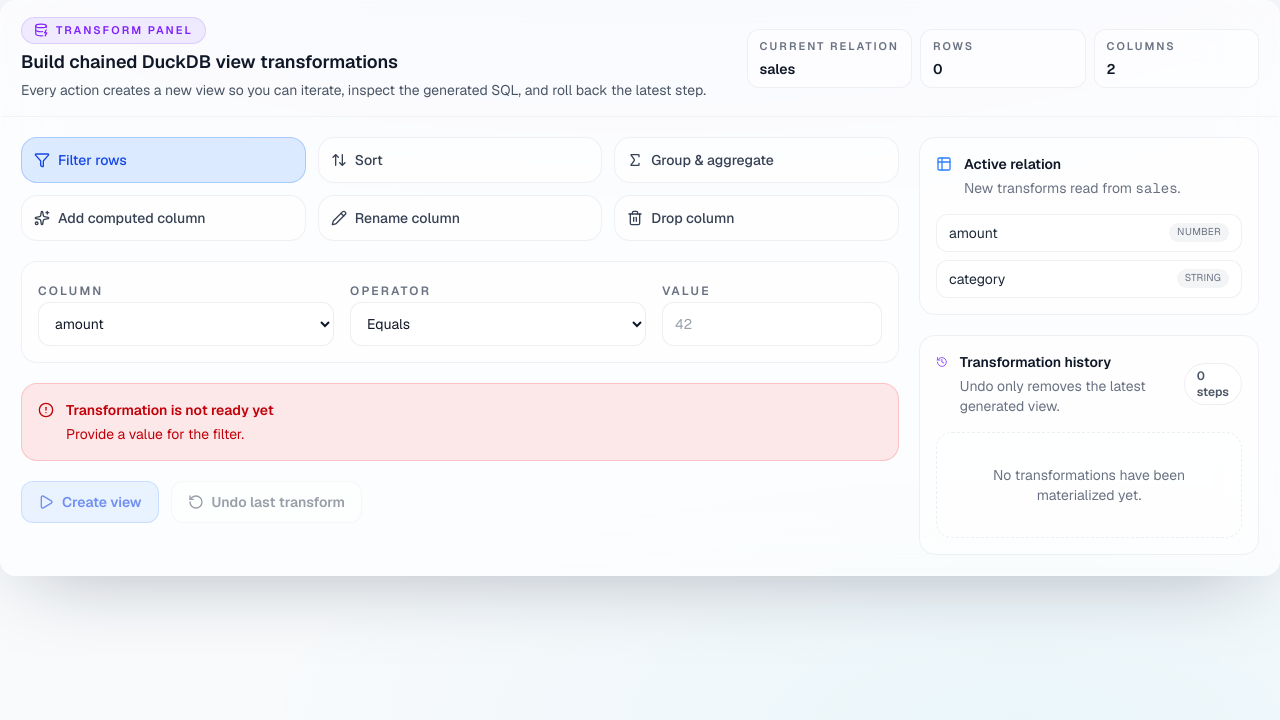
TransformPanel › undoes the latest transform
The image size is (1280, 720).
Select "Is not null" in the dropdown labelled "Operator" at (498, 324), box x1=350 y1=302 x2=646 y2=346
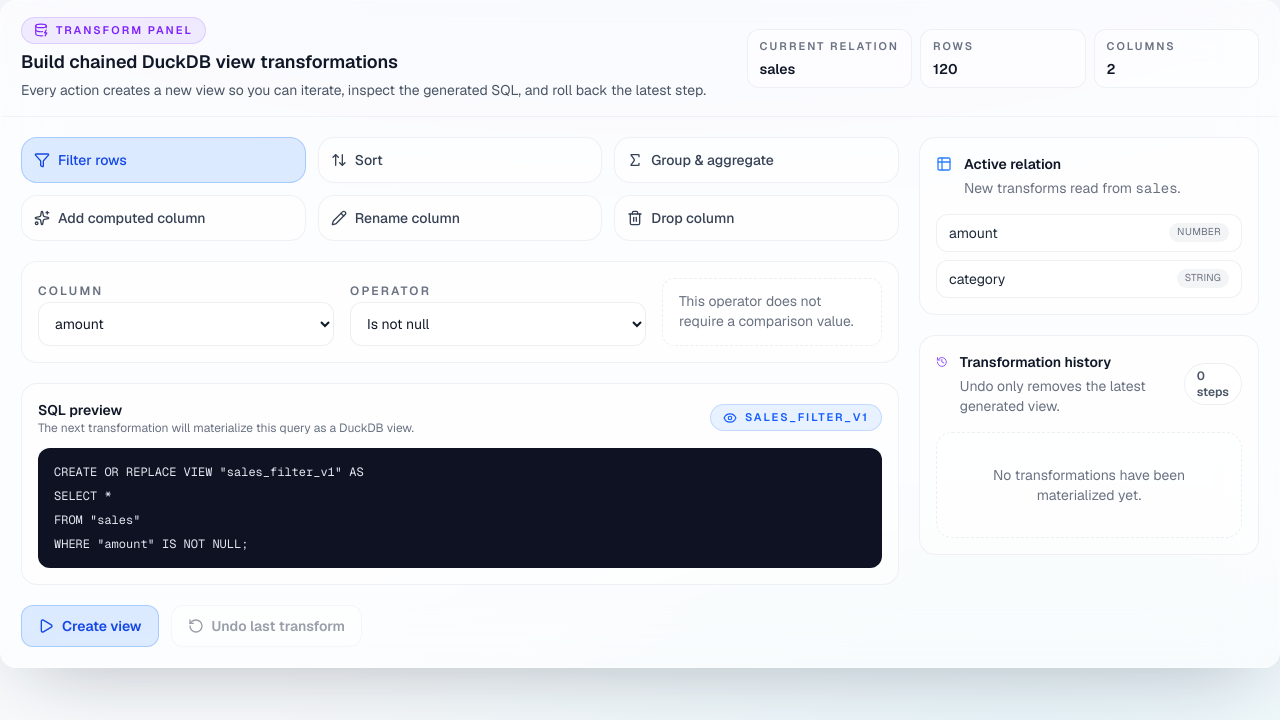
Check: the text "This operator does not require a comparison value." is shown, box x1=662 y1=278 x2=882 y2=346
Check: the button "Create view" is enabled
Click the button "Create view" at (90, 626), box x1=21 y1=604 x2=159 y2=646
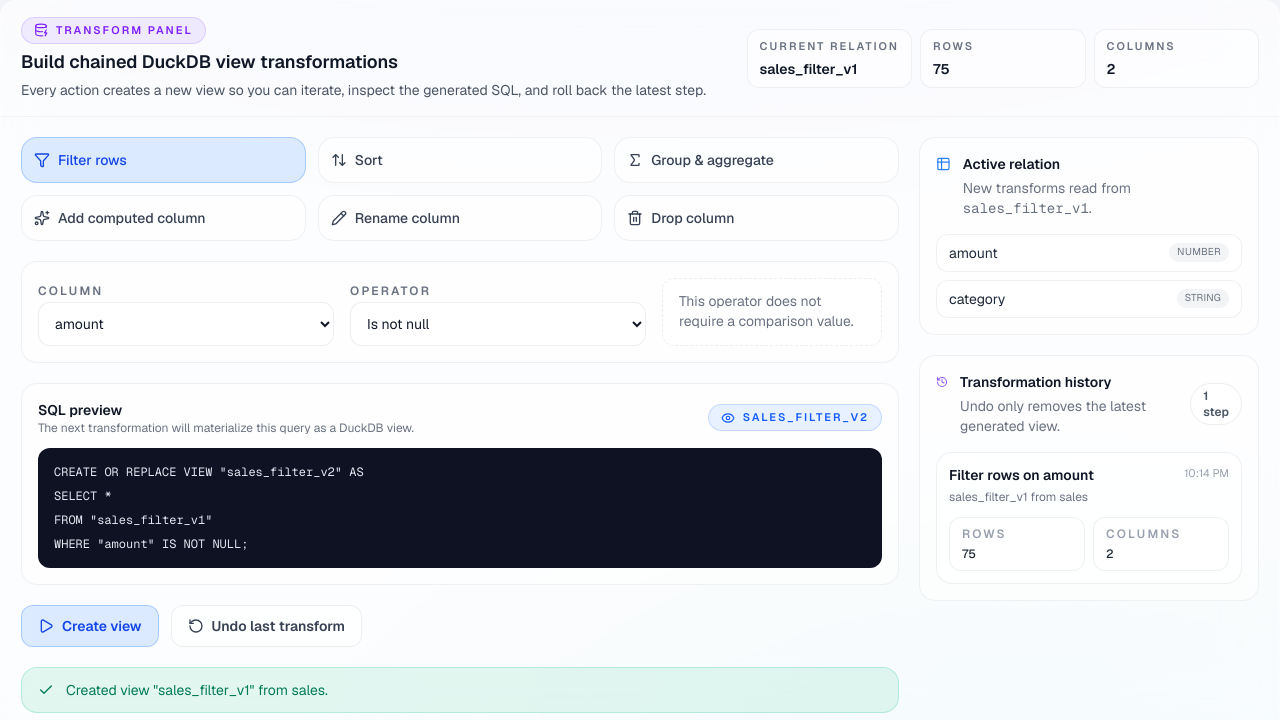
Check: the text "Created view \"sales_filter_v1\" from sales." is shown, box x1=66 y1=680 x2=328 y2=700
Click the button "Undo last transform" at (266, 626), box x1=171 y1=604 x2=362 y2=646
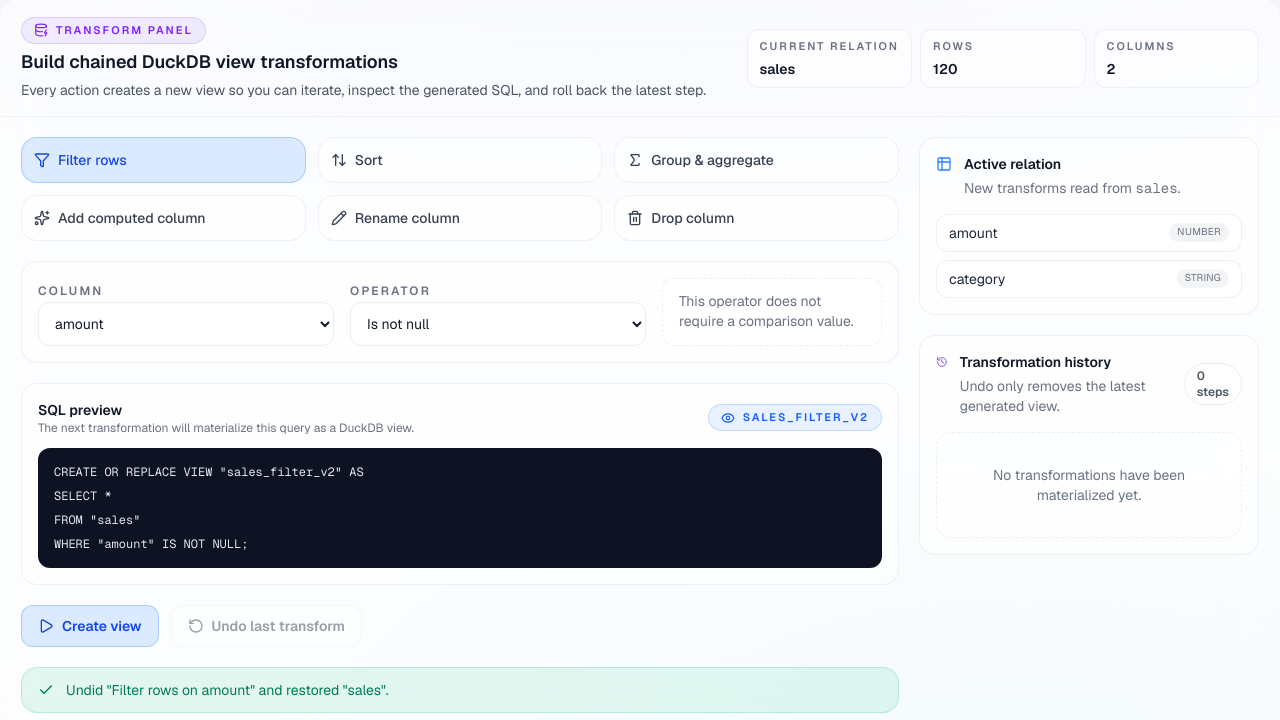
Check: the text "Undid \"Filter rows on amount\" and restored \"sales\"." is shown, box x1=66 y1=680 x2=389 y2=700
Check: the text "No transformations have been materialized yet." is shown, box x1=936 y1=432 x2=1242 y2=538
